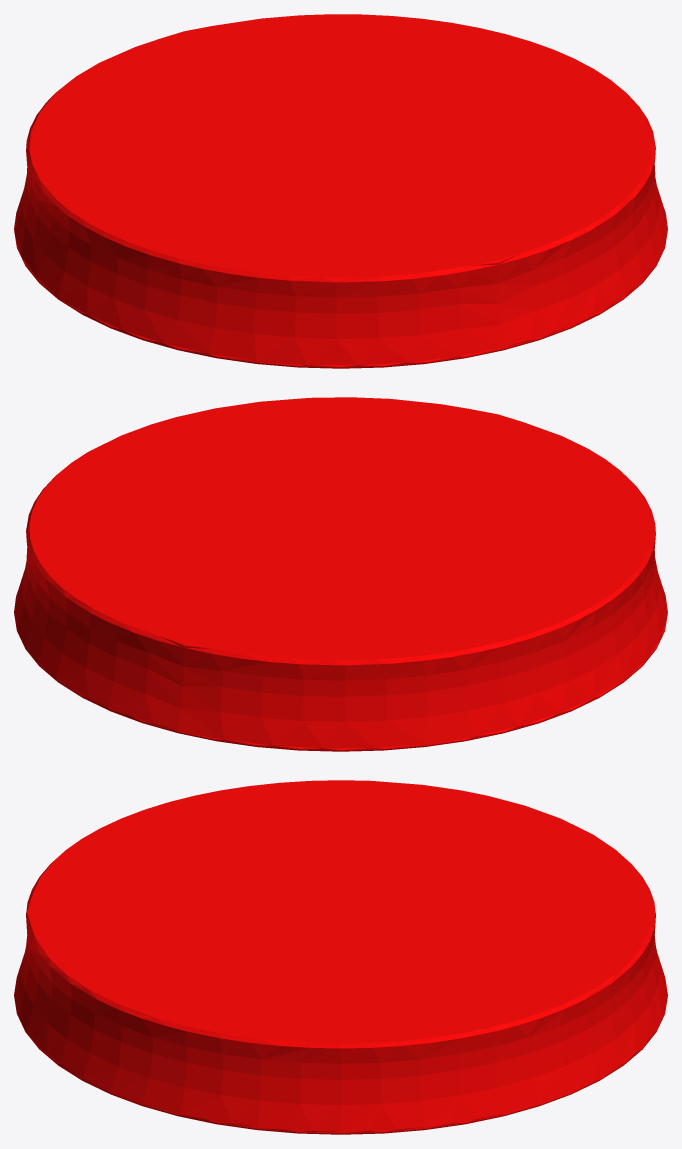
The picture shows the model from 3 angles, top to bottom: view 1: azimuth 30°, elevation 25°; view 2: azimuth 150°, elevation 25°; view 3: azimuth 270°, elevation 25°; orthographic projection.
Parts seen in each view (by area): view 1: A0509_5_0; view 2: A0509_5_0; view 3: A0509_5_0.
Part boxes in pixels (x1,y1,x2,y2): A0509_5_0: (14, 14, 667, 368); A0509_5_0: (14, 397, 667, 751); A0509_5_0: (14, 780, 667, 1134).
Size of the model in its own units: 90.23 by 90.23 by 13.
